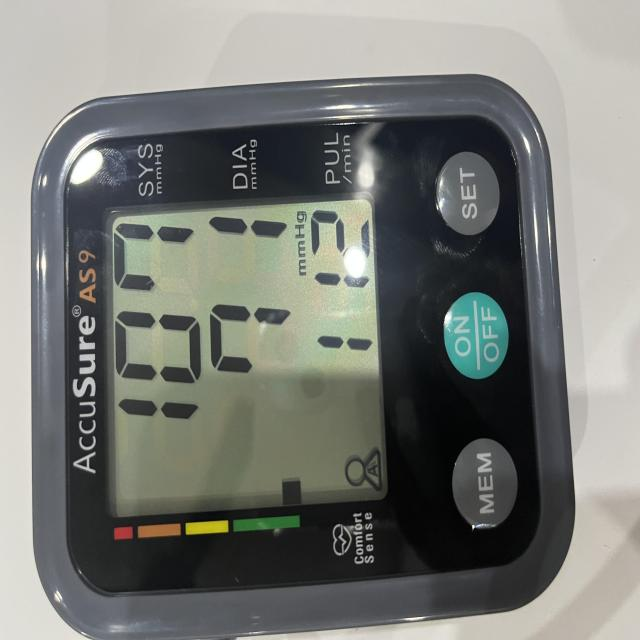bp: (27, 15, 579, 640)
